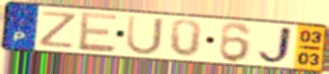0: (168, 18, 204, 59)
6: (218, 20, 252, 64)
E: (77, 10, 120, 54)
J: (255, 24, 295, 66)
U: (125, 14, 165, 57)
Z: (36, 10, 79, 50)
